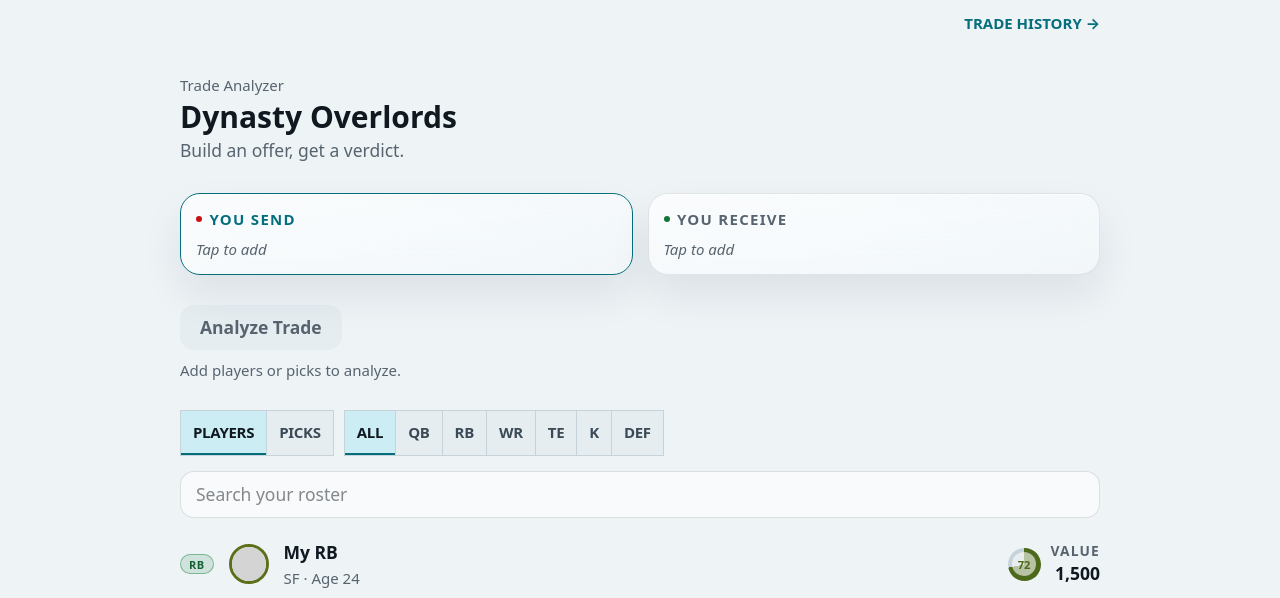
it: TradeAnalyzerContent › shows the lineup model's points, the one trade score and the computed confidence
The width and height of the screenshot is (1280, 598).
What coordinates should you click on to do the following:
click the text "My RB"
I would click on:
 (311, 552)
Its box is [284, 540, 338, 564].
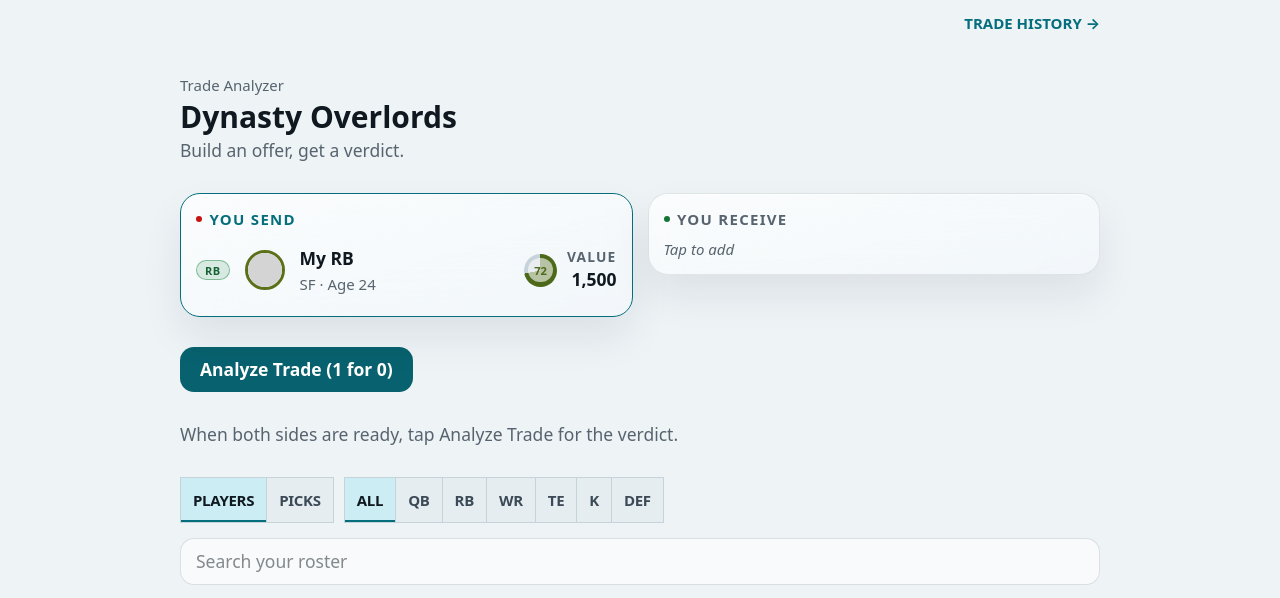
What coordinates should you click on to do the following:
click the button "You receive"
I would click on:
 (726, 219)
Its box is [664, 209, 788, 229].
(page scrolled)
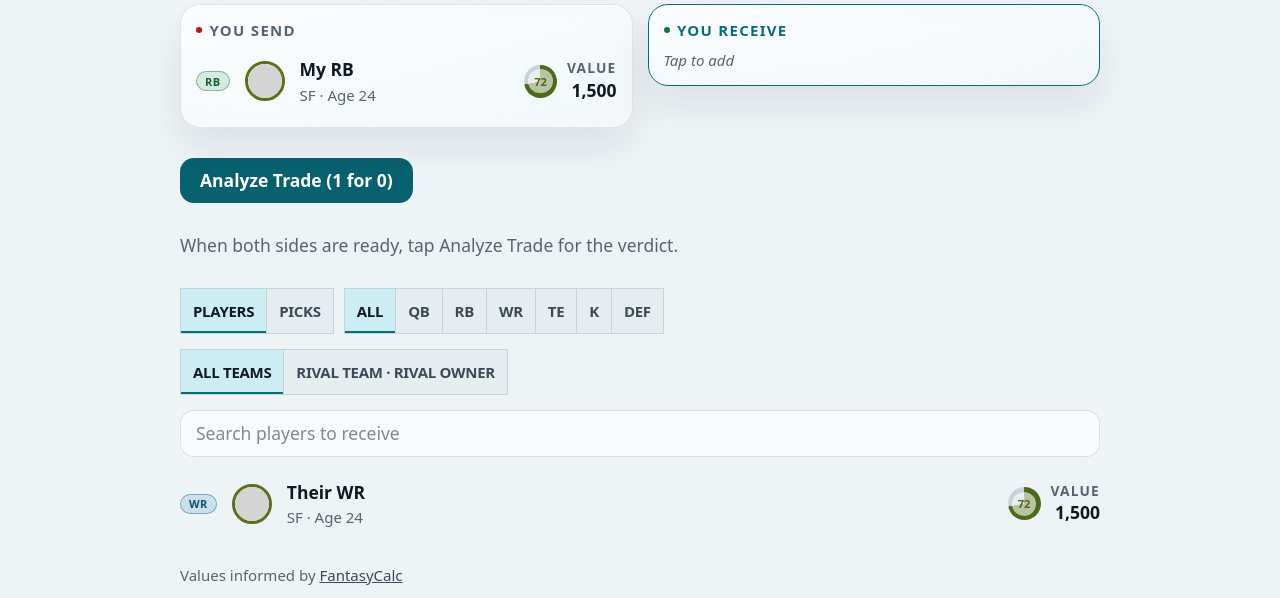
What coordinates should you click on to do the following:
click the text "Their WR"
I would click on:
 (326, 492)
Its box is [287, 480, 365, 505].
(page scrolled)
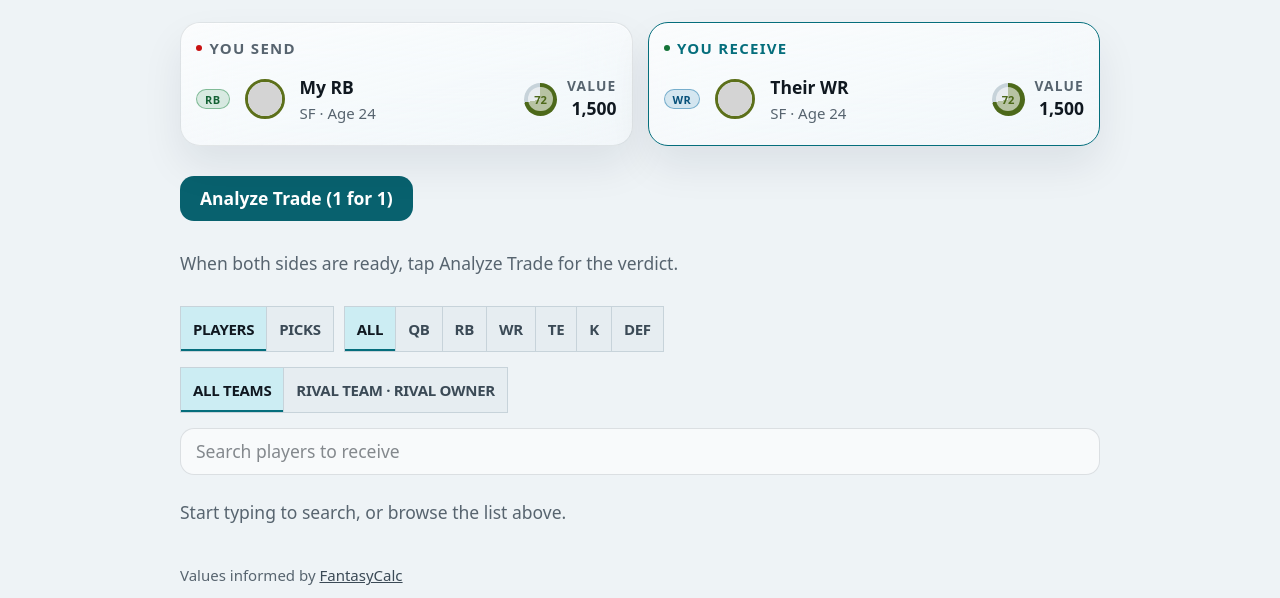
What coordinates should you click on to do the following:
click the button "Analyze Trade (1 for 1)"
I would click on:
 (296, 199)
Its box is [180, 176, 413, 222].
(page scrolled)
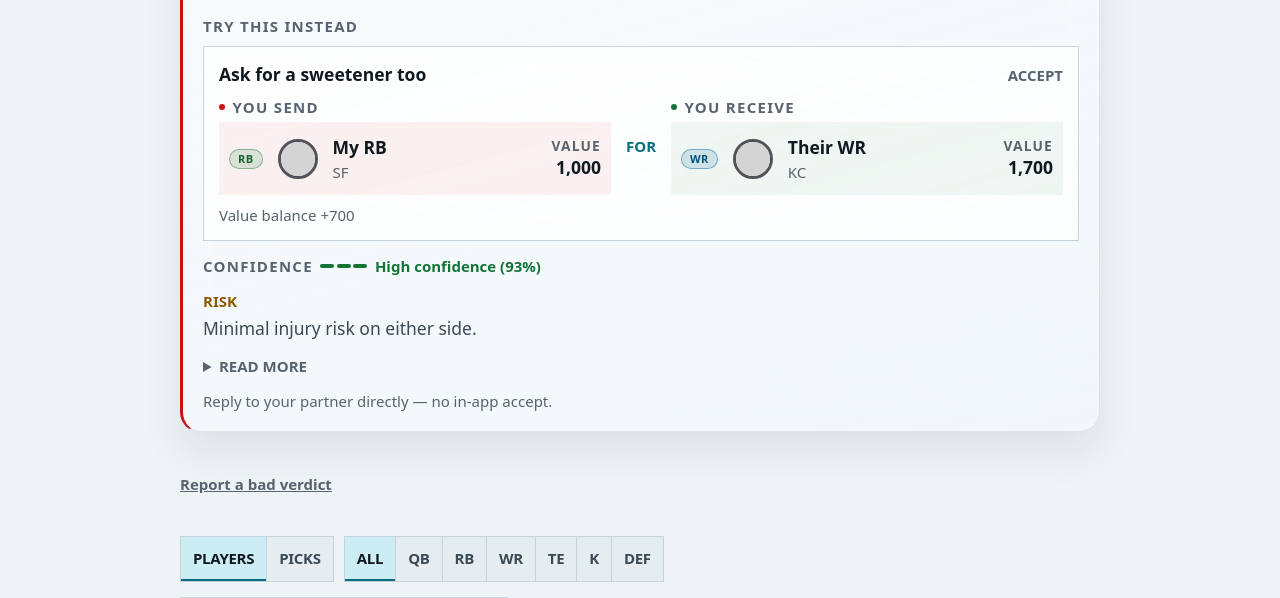
Expected: the text "High confidence (93%)" is shown, [375, 256, 541, 276]
